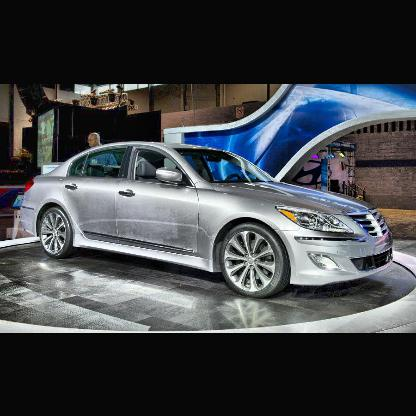Hyundai Genesis Sedan 2012: (23, 142, 394, 300)
